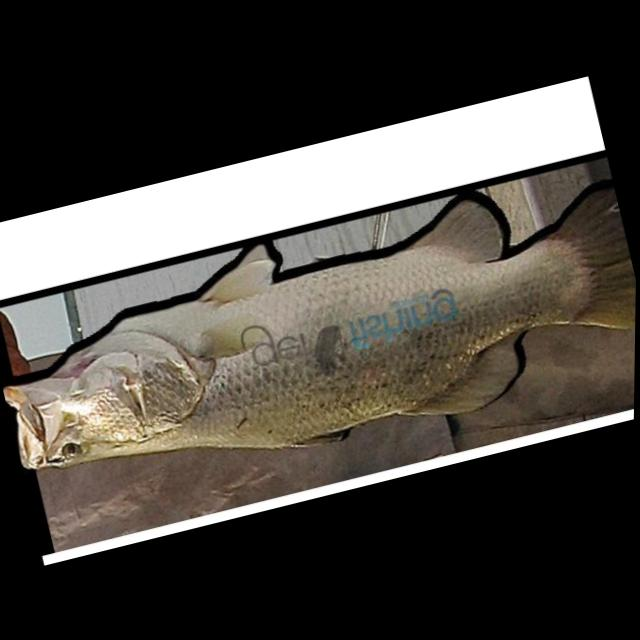Seabass: (0, 160, 638, 520)
